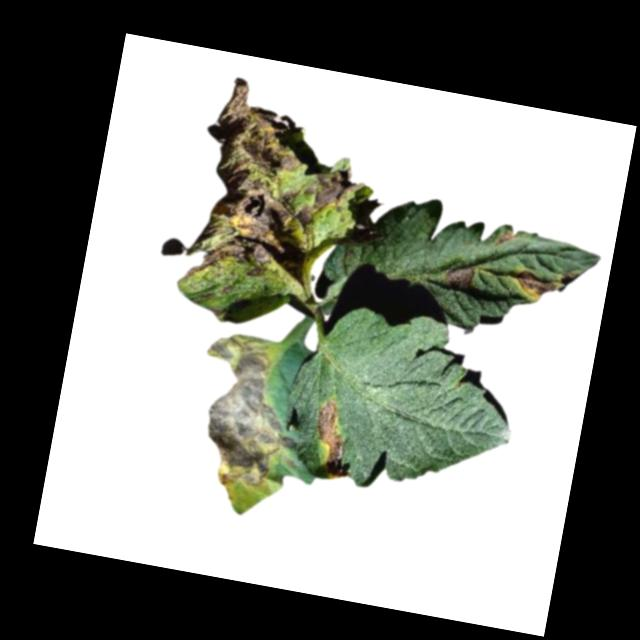Early_blight: (185, 71, 368, 292), (184, 328, 317, 498), (304, 397, 360, 481), (513, 268, 563, 305), (441, 261, 475, 292), (494, 224, 520, 247)
